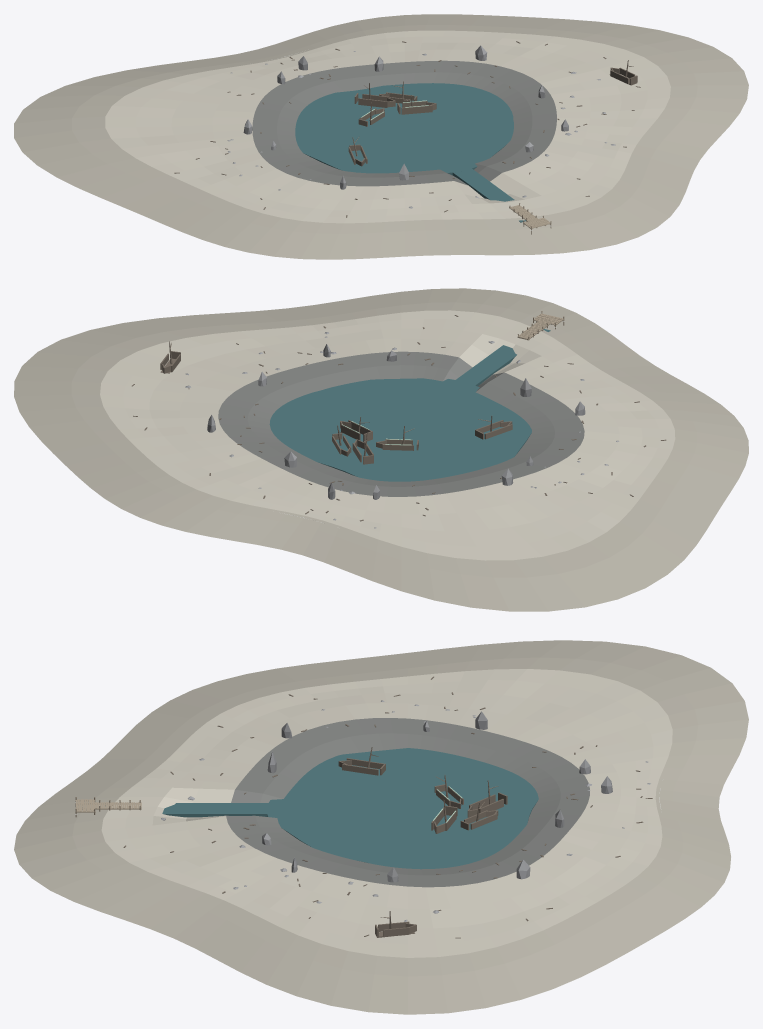
The model's file is island_wreck.glb.
The picture shows the model from 3 angles, top to bottom: view 1: azimuth 30°, elevation 25°; view 2: azimuth 150°, elevation 25°; view 3: azimuth 270°, elevation 25°; orthographic projection. The views are drawn at different scales.
Parts seen in each view (by area): view 1: Wreckwater_Base, Wreckwater_Bay, Wreckwater_Hulks, Wreckwater_Rocks; view 2: Wreckwater_Base, Wreckwater_Bay, Wreckwater_Hulks, Wreckwater_Rocks; view 3: Wreckwater_Base, Wreckwater_Bay, Wreckwater_Hulks, Wreckwater_Rocks, Wreckwater_Dock_Planks.
Boxes of the visible parts, x1,y1,x2,y2 form: Wreckwater_Base: (14, 14, 748, 259); Wreckwater_Bay: (295, 83, 526, 222); Wreckwater_Hulks: (174, 41, 640, 217); Wreckwater_Rocks: (227, 45, 615, 208); Wreckwater_Base: (14, 288, 748, 611); Wreckwater_Bay: (269, 329, 550, 481); Wreckwater_Hulks: (132, 315, 666, 521); Wreckwater_Rocks: (185, 332, 618, 528); Wreckwater_Base: (14, 640, 748, 1014); Wreckwater_Bay: (105, 748, 538, 869); Wreckwater_Hulks: (123, 676, 652, 938); Wreckwater_Rocks: (161, 700, 650, 921); Wreckwater_Dock_Planks: (75, 799, 141, 812).
Size of the model in its own units: 614 by 30.64 by 509.
